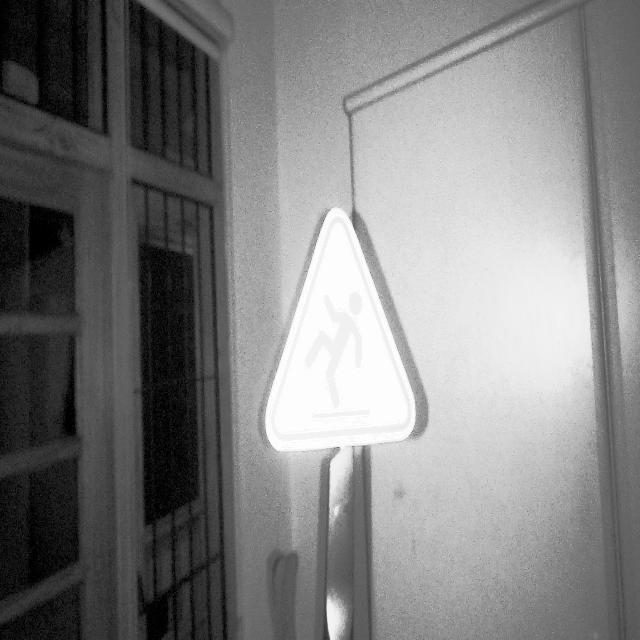Sign: (264, 206, 417, 454)
